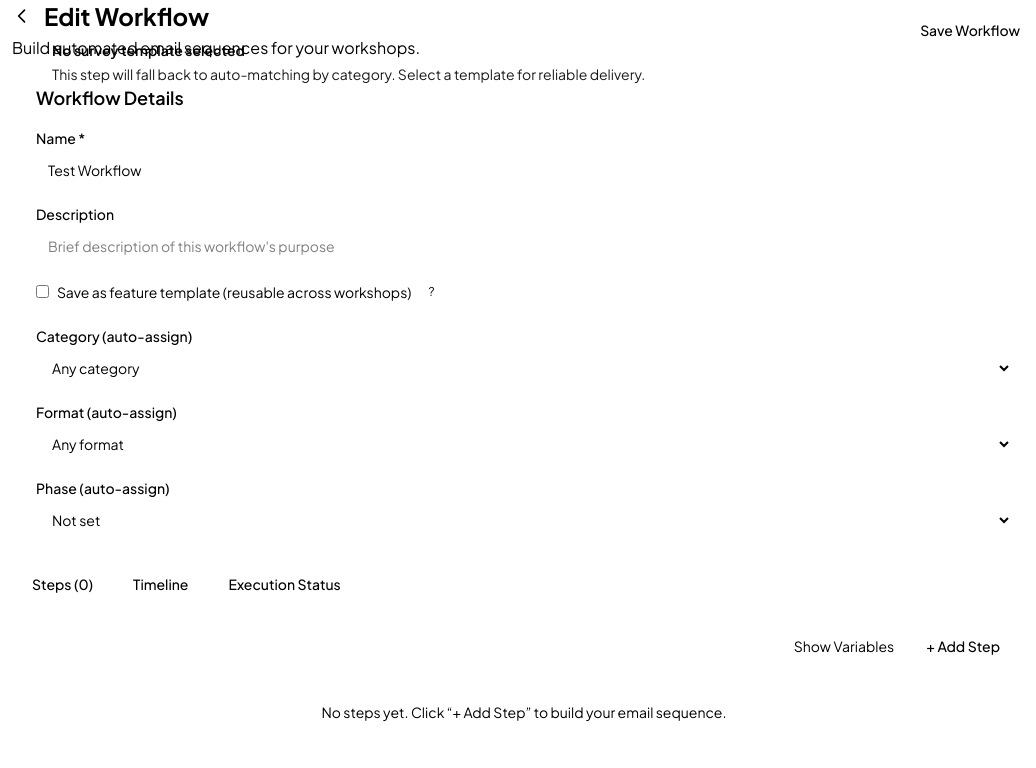
it: NewStepForm: switching from EMAIL_ATTENDEES (with template) to SEND_SURVEY_LINK shows subject/body
// Click "+ Add Step" to open NewStepForm
Click the button "+ Add Step" at (963, 646), box left=914, top=630, right=1012, bottom=662
(page scrolled)
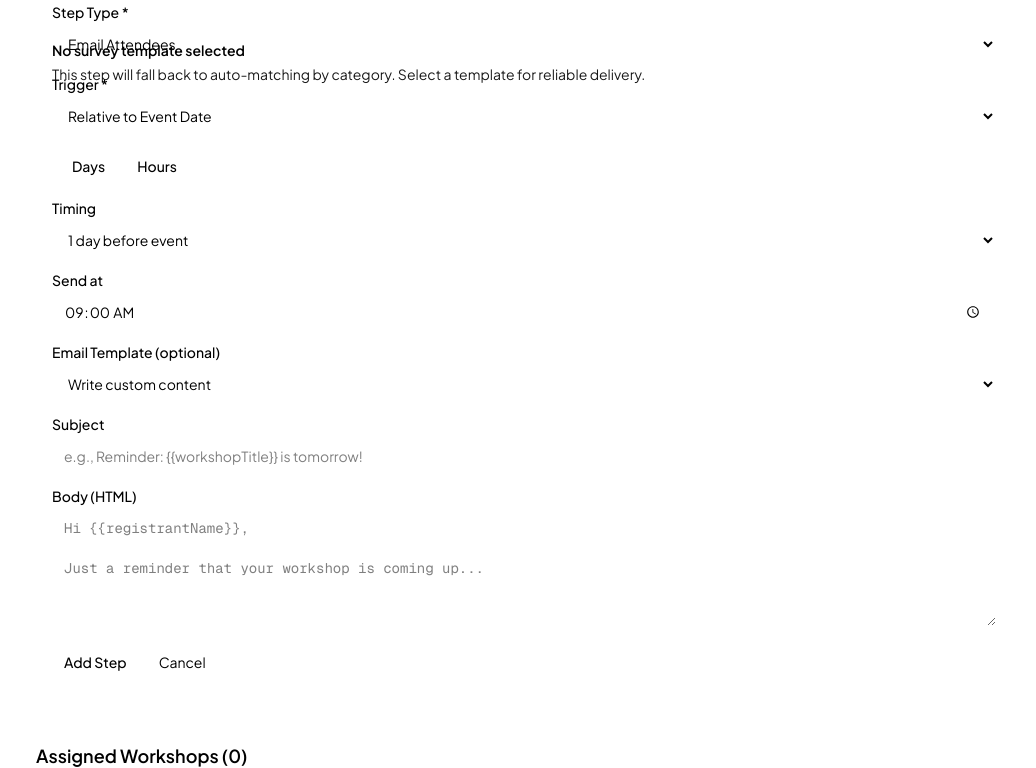
Select "Welcome Email — Welcome to the workshop" in the dropdown below "Email Template (optional)" at (524, 384), box left=52, top=366, right=996, bottom=402
(page scrolled)
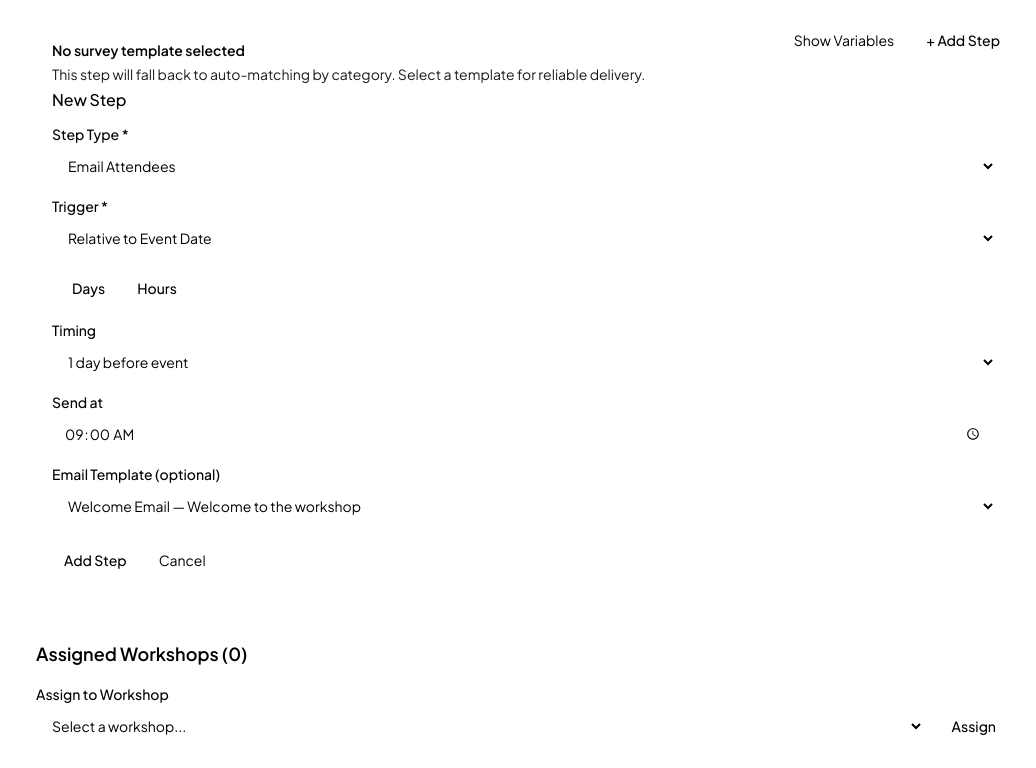
// Switch step type to SEND_SURVEY_LINK
Select "Send Survey Link" in the dropdown below "Step Type *" at (524, 166), box left=52, top=148, right=996, bottom=184
(page scrolled)
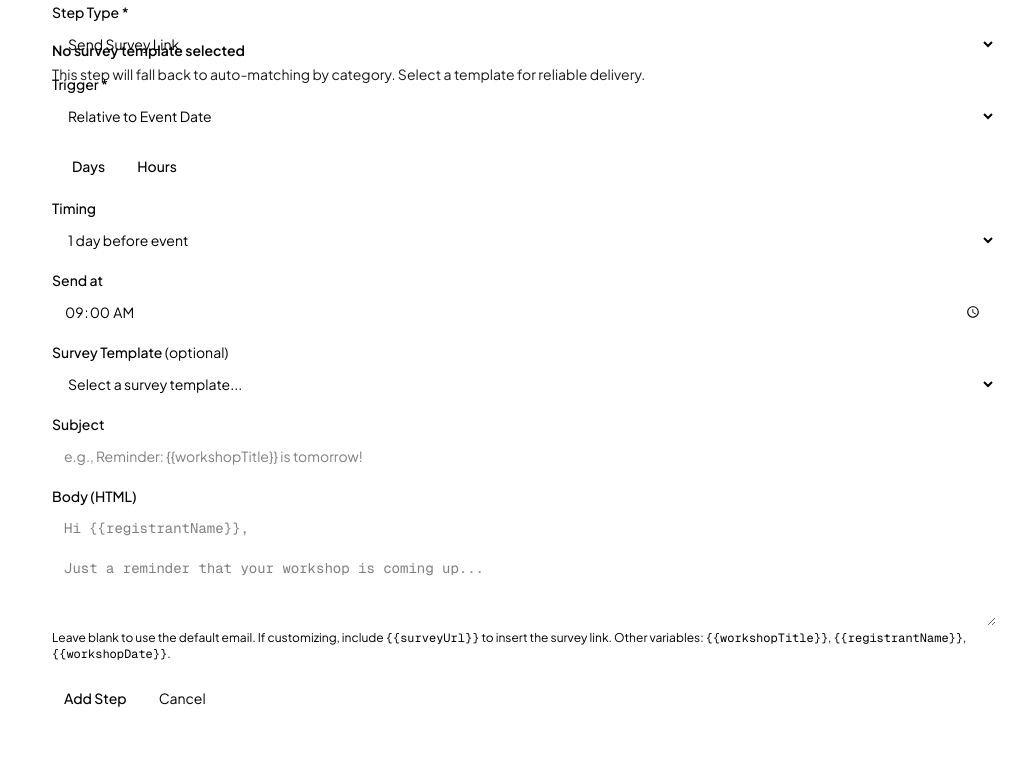
Expected: the text box with placeholder "Just a reminder" is shown, left=52, top=510, right=996, bottom=626
